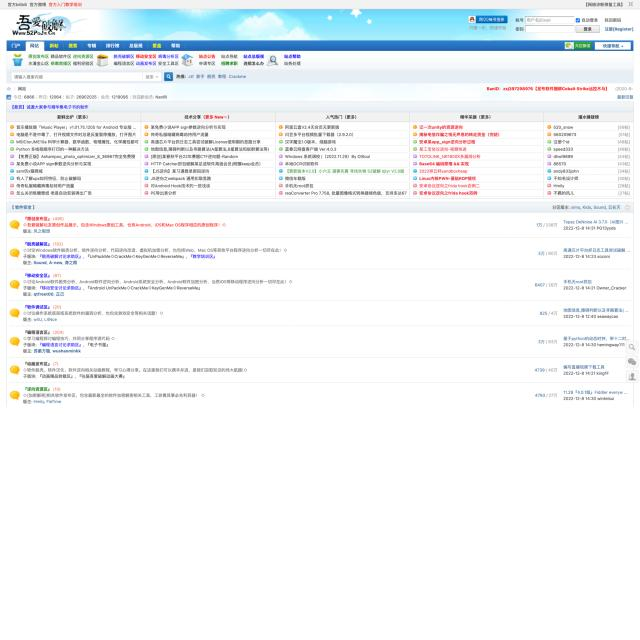input: (12, 72, 160, 82), (525, 16, 574, 24), (525, 25, 574, 33)
logo: (8, 12, 90, 38)
